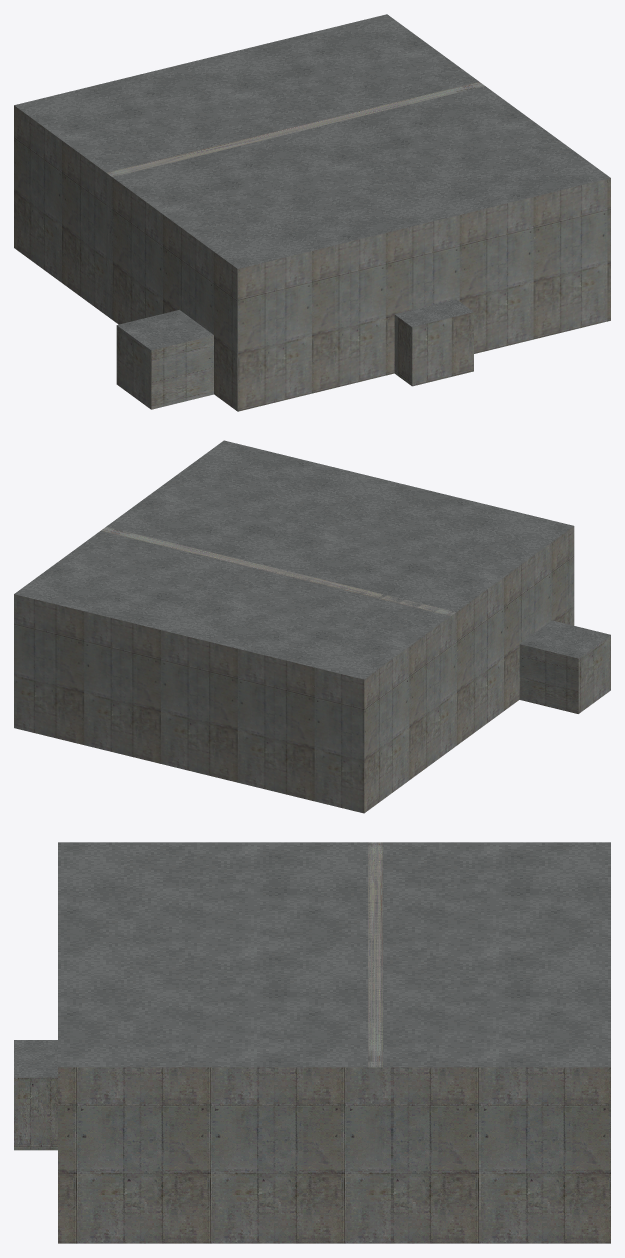
The model's file is lab.glb.
The picture shows the model from 3 angles, top to bottom: view 1: azimuth 30°, elevation 25°; view 2: azimuth 150°, elevation 25°; view 3: azimuth 270°, elevation 25°; orthographic projection. The views are drawn at different scales.
Parts seen in each view (by area): view 1: Plane.001, Plane.003; view 2: Plane.001, Plane.003; view 3: Plane.003, Plane.001.
Boxes of the visible parts, bbox=[...] form: Plane.001: bbox=[14, 82, 610, 411]; Plane.003: bbox=[14, 14, 610, 350]; Plane.001: bbox=[14, 526, 610, 813]; Plane.003: bbox=[14, 440, 610, 679]; Plane.003: bbox=[14, 842, 610, 1077]; Plane.001: bbox=[14, 842, 610, 1243].
Size of the model in its own units: 28.2 by 8.82 by 27.06.
Materials: 4 (3 with a texture image).
